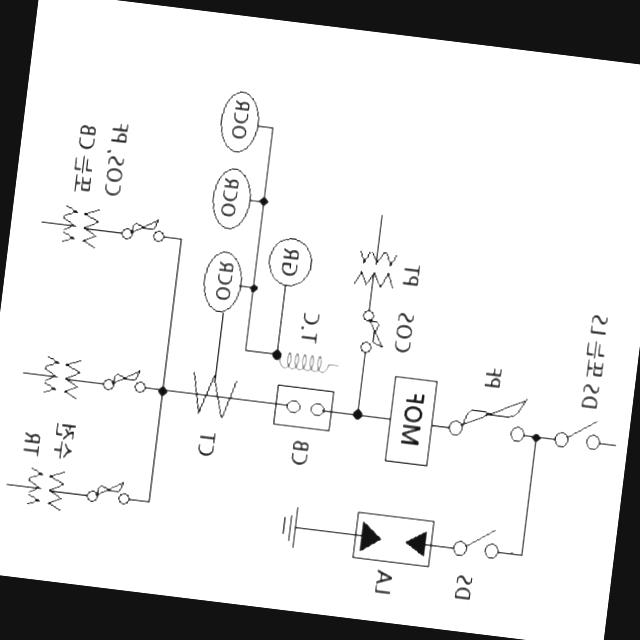CB: (272, 386, 334, 432)
CT: (186, 374, 238, 420)
GND: (278, 504, 298, 550)
LA: (351, 514, 432, 568)
MOF: (384, 378, 436, 467)
PF: (448, 389, 529, 445), (119, 216, 164, 243), (100, 368, 146, 393), (357, 311, 385, 352), (84, 480, 128, 506)
PT: (40, 354, 80, 398), (23, 469, 64, 510), (352, 250, 394, 288), (60, 206, 96, 248)
ds: (554, 418, 600, 452), (454, 526, 500, 560)
